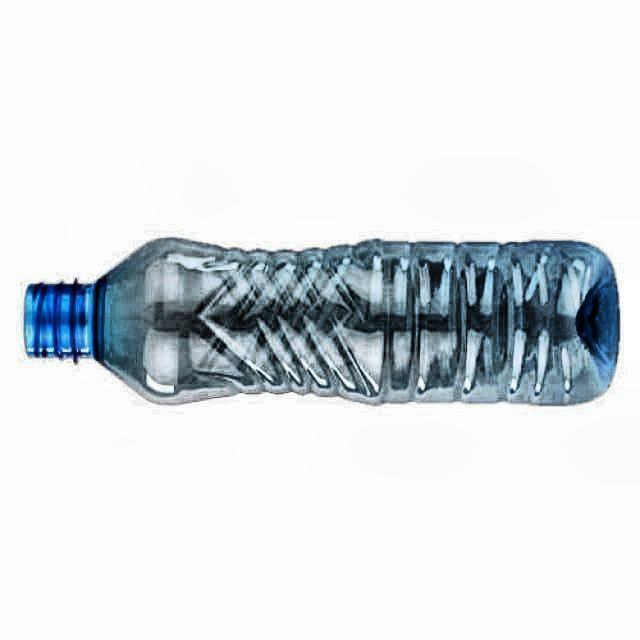plastic: (25, 239, 619, 404)
